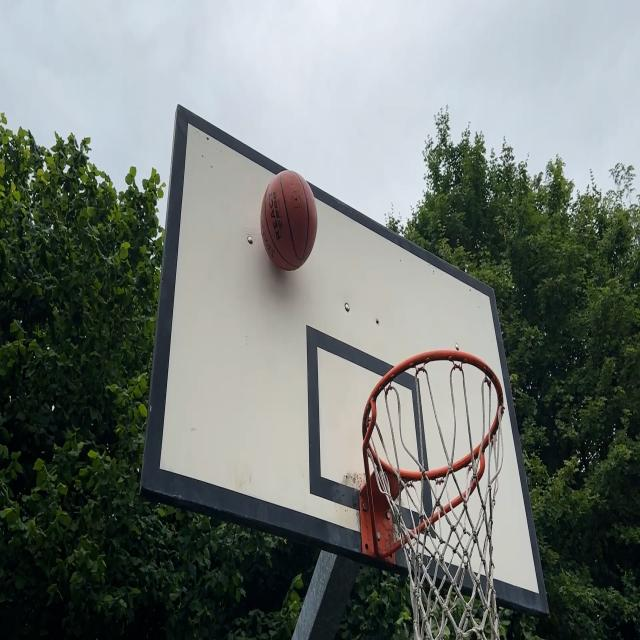rebound_hit: (260, 171, 318, 278)
